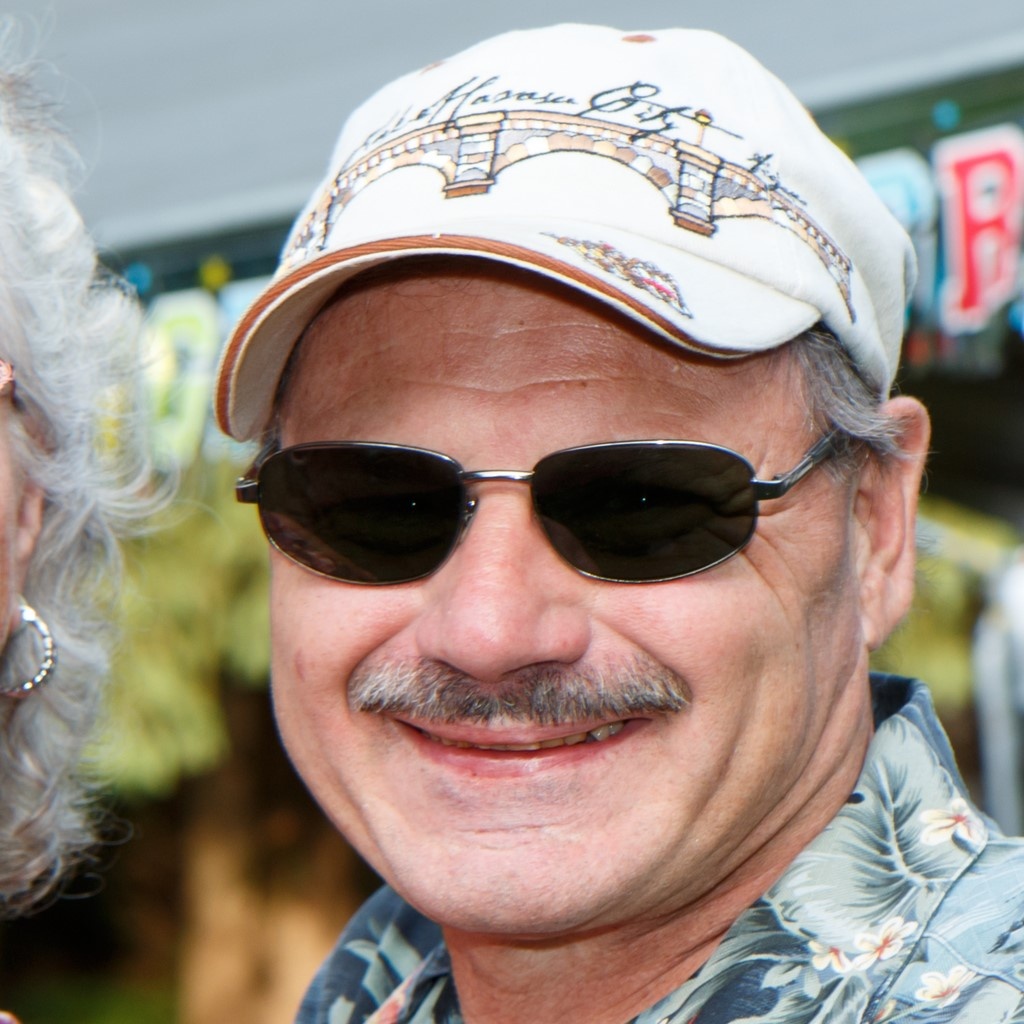sin_mascara: (268, 110, 922, 954)
